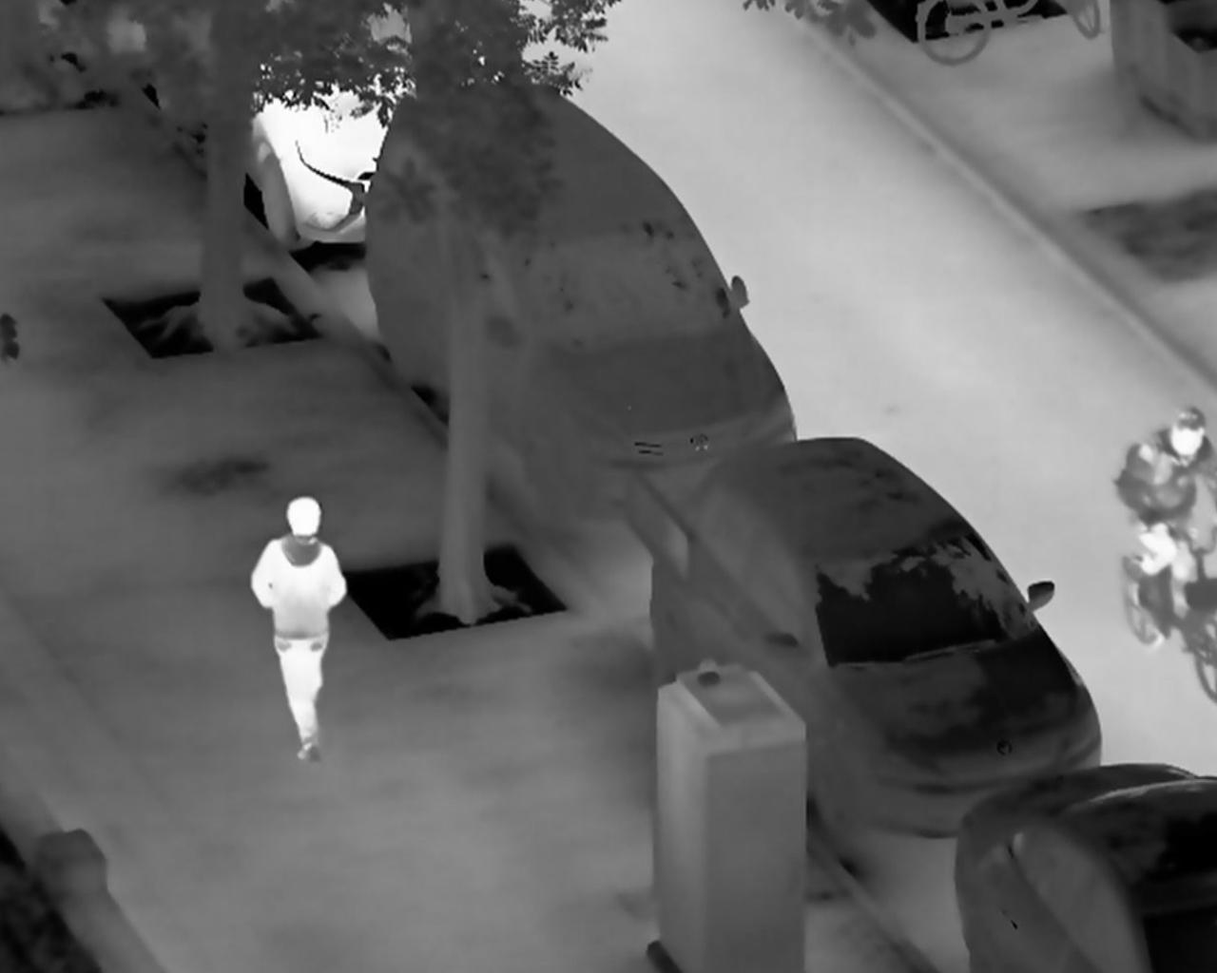person: (251, 495, 349, 766), (1118, 405, 1217, 588)
